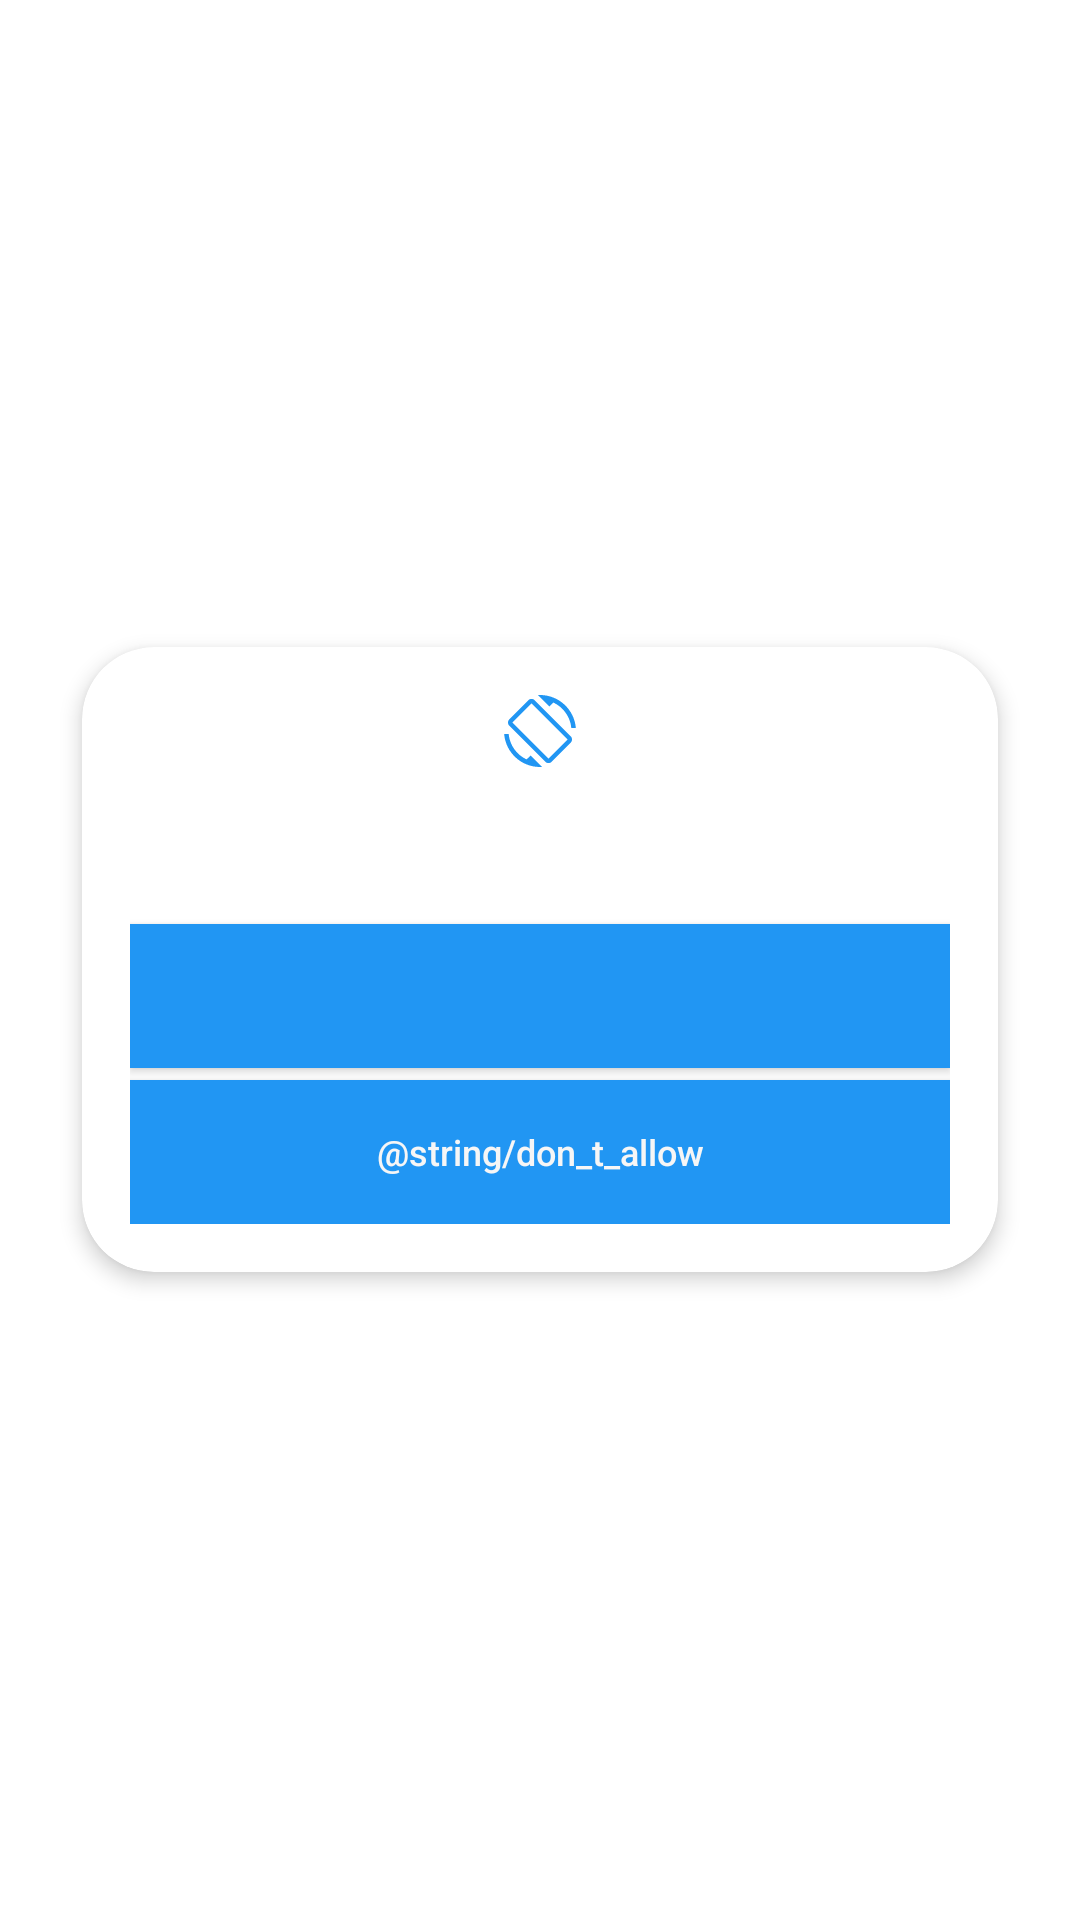

Point at icon controls on the screen. Image size 1080×1920, points as [x,y].
sensor accelerometer: [540,731]
